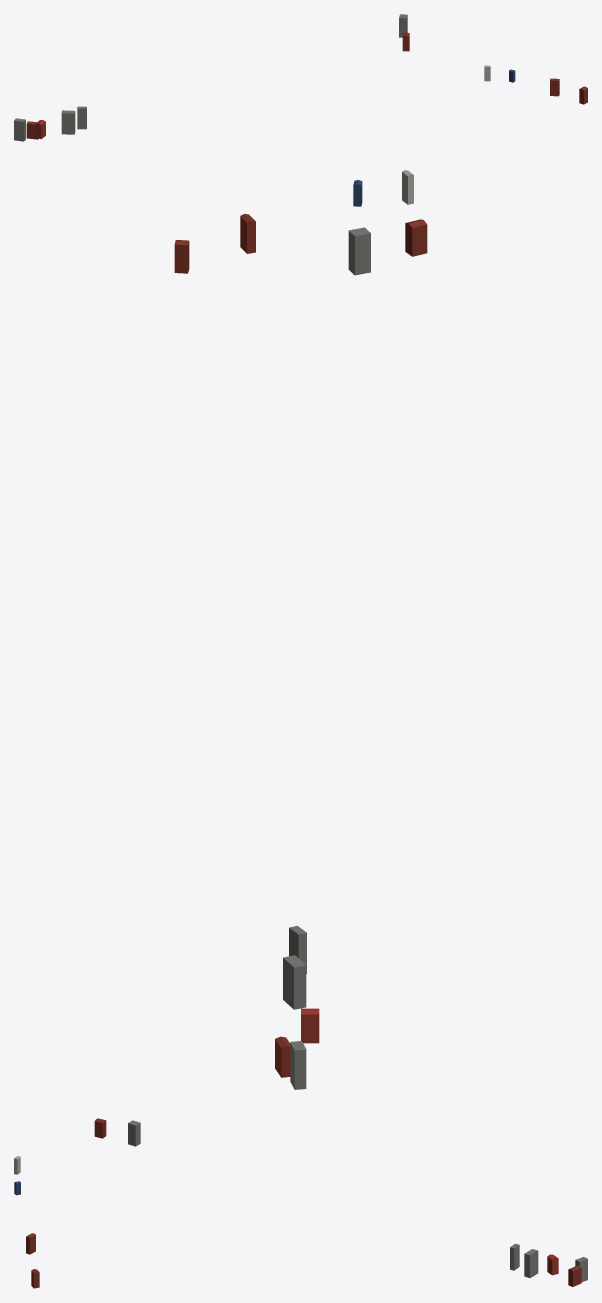
Rendered from near-15-27365-14864.21fdfc7a.glb.
3 renders of one model, top to bottom at view 1: azimuth 30°, elevation 25°; view 2: azimuth 150°, elevation 25°; view 3: azimuth 270°, elevation 25°, orthographic. The views are drawn at different scales.
Bounding box in the file's own units: 403 × 280 × 580.
